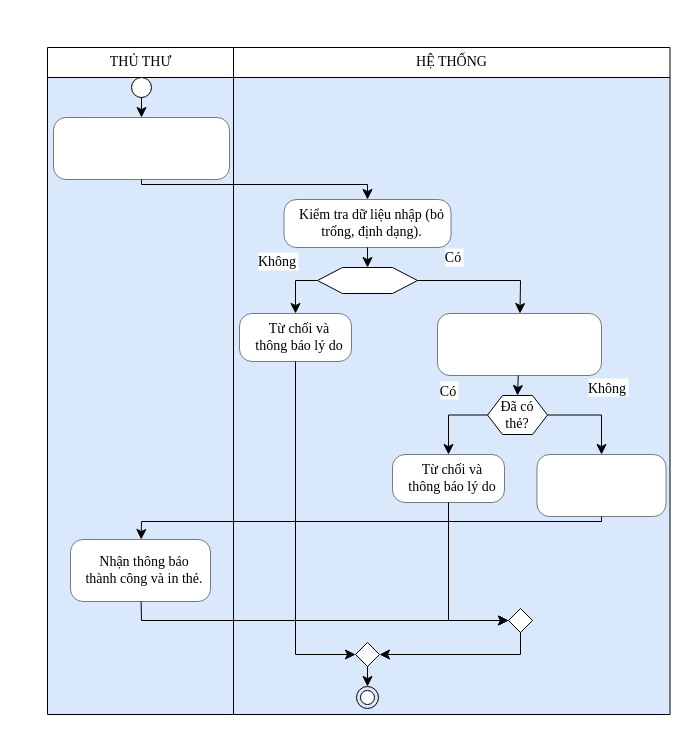
The diagram is 687 pixels wide and 732 high, and some of its shapes have lost their labels. Each missing label, with the centre of its shape:
"Dữliệu hợp lệ?" goes at pixel 367 280.
"Kiểm tra độc giả đã có thẻ hoạt động chưa." goes at pixel 519 344.
"Lưu thông tin Độc giả và Thẻ mới vào CSDL." goes at pixel 601 485.
"Nhập thông tin độc giả (Họ tên, Ngày sinh, SDT...) và chọn Cấp thẻ." goes at pixel 141 148.
